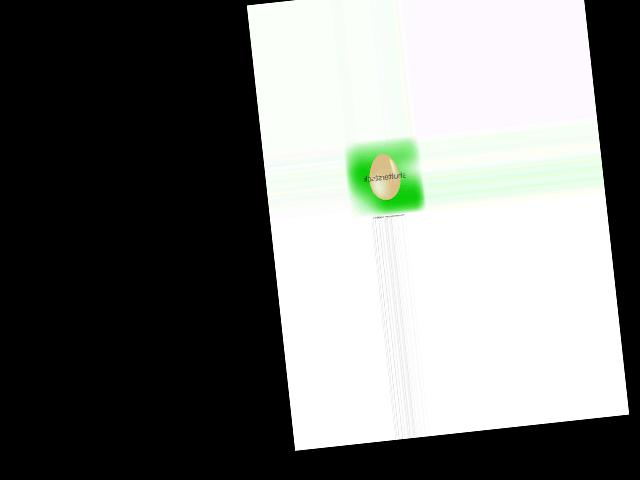egg: (366, 152, 402, 201)
